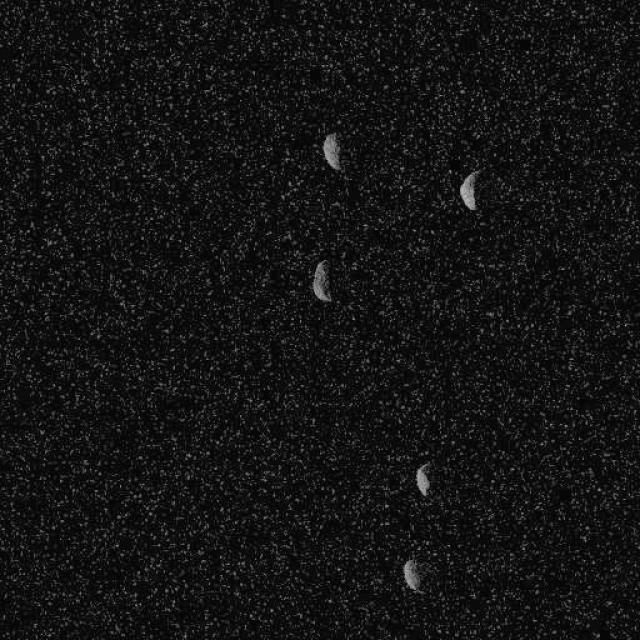D2: (458, 168, 482, 212), (310, 258, 332, 302), (321, 131, 341, 170), (402, 558, 422, 592), (414, 462, 431, 496)
